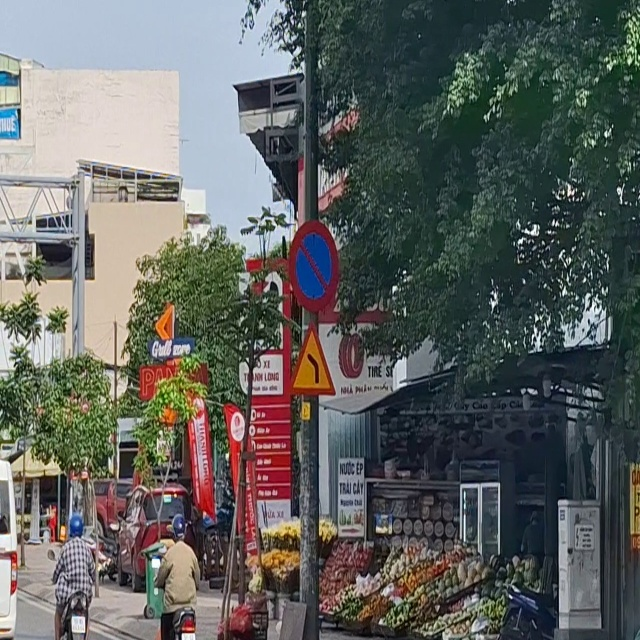cam do xe: (278, 210, 352, 318)
